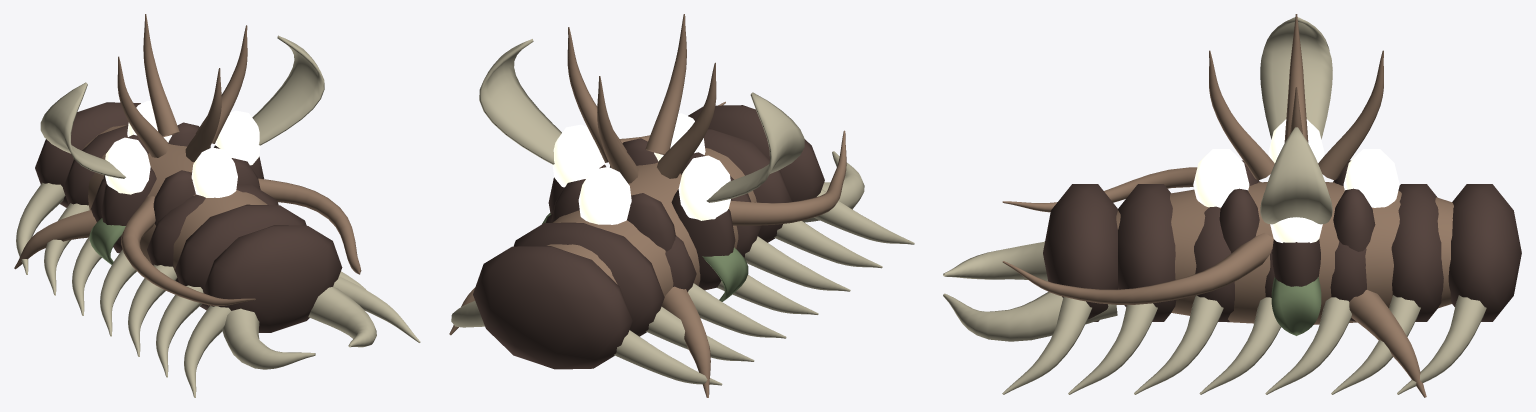
File: seamroot.glb
3 views of the same model, side by side, from view 1: azimuth 30°, elevation 25°; view 2: azimuth 150°, elevation 25°; view 3: azimuth 270°, elevation 25° (orthographic). The views are drawn at different scales.
Parts seen in each view (by area): view 1: Digging claw, Mobility frill, Enlarged spore sac, Crown growth, Extended strike tendril, Layered bark plate, EnemyCore, Older leaf; view 2: Digging claw, Mobility frill, Enlarged spore sac, Crown growth, Layered bark plate, EnemyCore, Extended strike tendril, Older leaf; view 3: Digging claw, Mobility frill, EnemyCore, Enlarged spore sac, Extended strike tendril, Layered bark plate, Crown growth, Older leaf.
Part boxes in pixels (bbox=[...]): Digging claw: bbox=[16, 102, 420, 397]; Mobility frill: bbox=[14, 35, 324, 269]; Enlarged spore sac: bbox=[105, 100, 260, 197]; Crown growth: bbox=[117, 14, 247, 161]; Extended strike tendril: bbox=[121, 178, 361, 306]; Layered bark plate: bbox=[101, 122, 264, 253]; EnemyCore: bbox=[83, 125, 267, 271]; Older leaf: bbox=[89, 218, 125, 264]; Digging claw: bbox=[451, 105, 914, 385]; Mobility frill: bbox=[449, 39, 804, 397]; Enlarged spore sac: bbox=[552, 113, 730, 224]; Crown growth: bbox=[567, 14, 716, 183]; Layered bark plate: bbox=[548, 138, 735, 290]; EnemyCore: bbox=[547, 147, 756, 296]; Extended strike tendril: bbox=[620, 101, 846, 225]; Older leaf: bbox=[542, 213, 748, 301]; Digging claw: bbox=[943, 184, 1521, 394]; Mobility frill: bbox=[1260, 17, 1426, 397]; EnemyCore: bbox=[1116, 182, 1453, 324]; Enlarged spore sac: bbox=[1193, 119, 1399, 242]; Extended strike tendril: bbox=[1002, 167, 1273, 304]; Layered bark plate: bbox=[1219, 160, 1375, 286]; Crown growth: bbox=[1209, 14, 1383, 180]; Older leaf: bbox=[1271, 276, 1321, 335].
Bounding box in the file's own units: 1.48 × 1.33 × 2.47.
